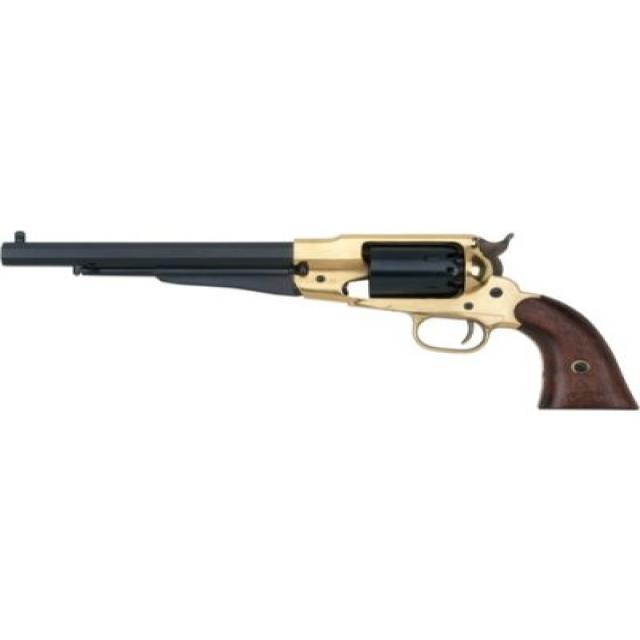HandGun: (0, 233, 640, 413)
